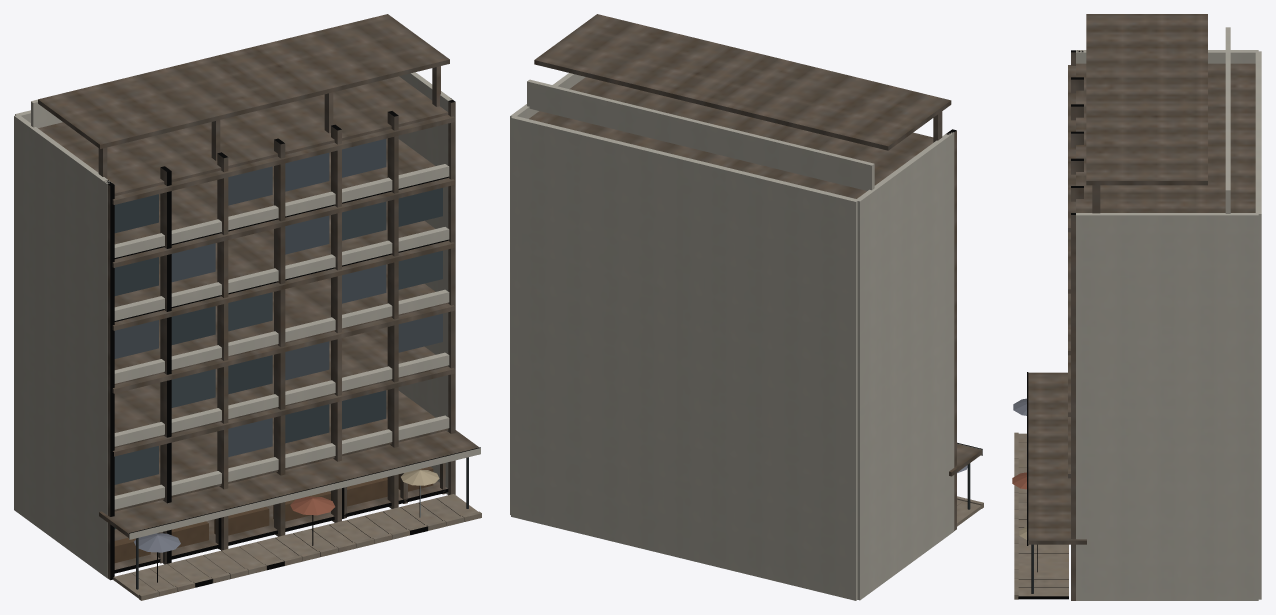
File: lagos_broadstreet_lod1.glb
3 views of the same model, side by side, from view 1: azimuth 30°, elevation 25°; view 2: azimuth 150°, elevation 25°; view 3: azimuth 270°, elevation 25° (orthographic). The views are drawn at different scales.
Parts seen in each view (by area): view 1: Lagos_BroadStreet_LOD1; view 2: Lagos_BroadStreet_LOD1; view 3: Lagos_BroadStreet_LOD1.
Boxes of the visible parts, x1,y1,x2,y2 form: Lagos_BroadStreet_LOD1: (14, 14, 481, 600); Lagos_BroadStreet_LOD1: (510, 14, 983, 600); Lagos_BroadStreet_LOD1: (1012, 14, 1261, 600).
Size of the model in its own units: 19.6 by 22.92 by 12.3.
1 material, 1 textured.
